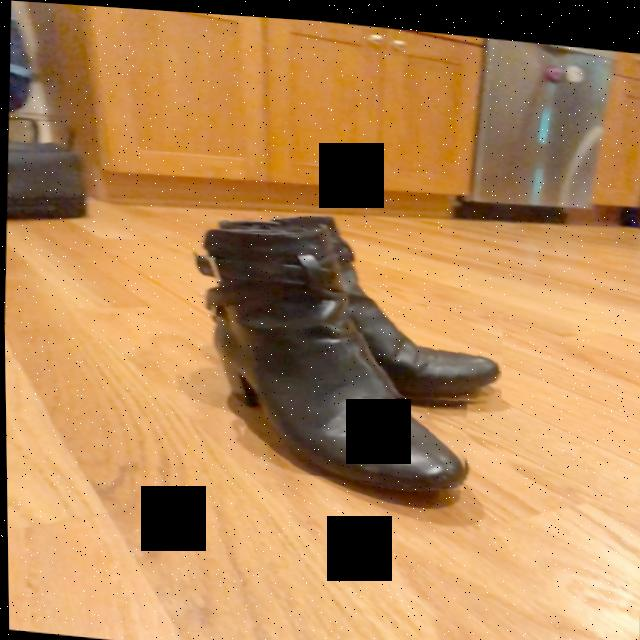shoe: (245, 299, 464, 483), (350, 292, 500, 394)
